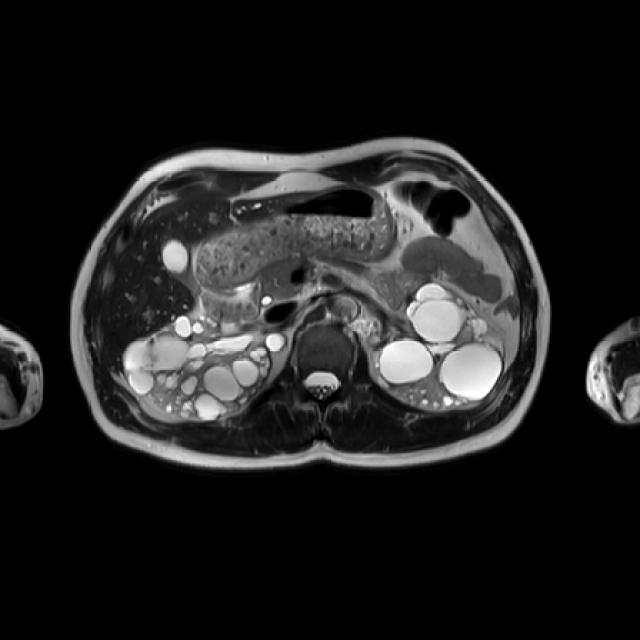sag: (123, 314, 288, 419)
sol: (377, 284, 502, 406)
